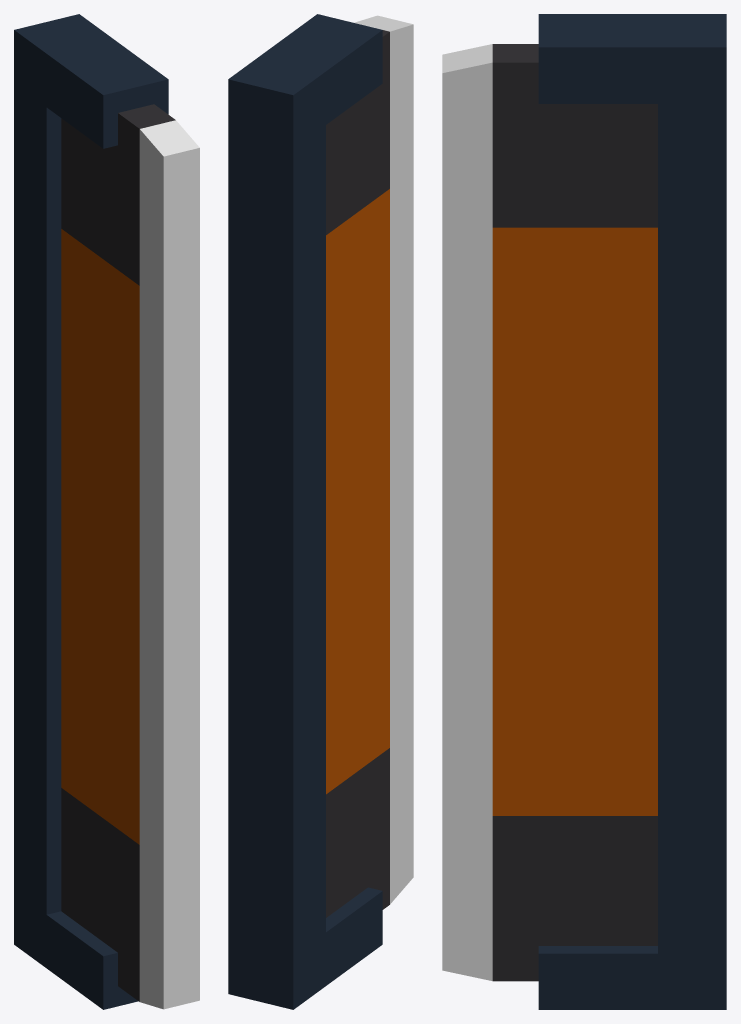
File: ram_1.glb
3 renders of one model, left to right at view 1: azimuth 30°, elevation 25°; view 2: azimuth 150°, elevation 25°; view 3: azimuth 270°, elevation 25°, orthographic. The views are drawn at different scales.
Parts seen in each view (by area): view 1: Cube.108, Cube.079, Cube.109; view 2: Cube.079, Cube.108, Cube.109; view 3: Cube.108, Cube.079, Cube.109.
Boxes of the visible parts, box(x1,y1,x2,y2) form: Cube.108: box(61, 104, 175, 1001); Cube.079: box(14, 14, 168, 1009); Cube.109: box(139, 120, 199, 1009); Cube.079: box(228, 14, 382, 1009); Cube.108: box(326, 30, 389, 917); Cube.109: box(354, 15, 413, 904); Cube.108: box(492, 44, 657, 981); Cube.079: box(538, 14, 726, 1009); Cube.109: box(442, 44, 492, 980).
Size of the model in its own units: 0.0203 by 0.2723 by 0.0728.
Materials: 2 (1 with a texture image).
